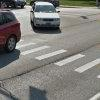Crosswalk: (24, 37, 99, 79)
